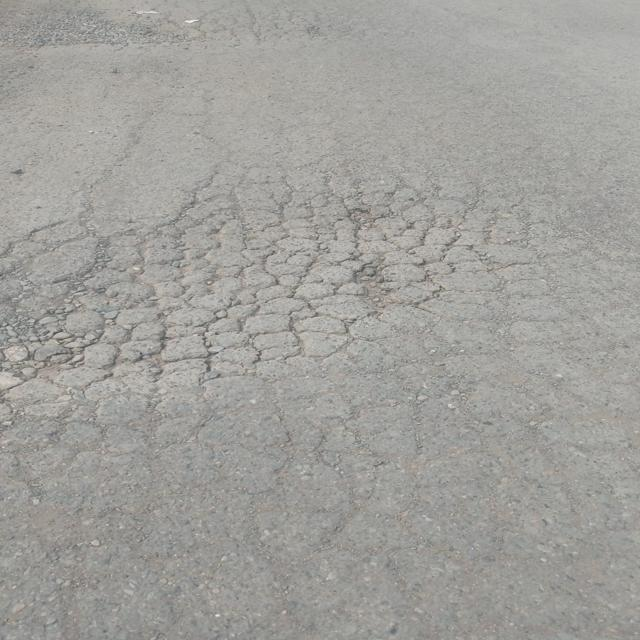Retak Buaya: (0, 150, 493, 410)
